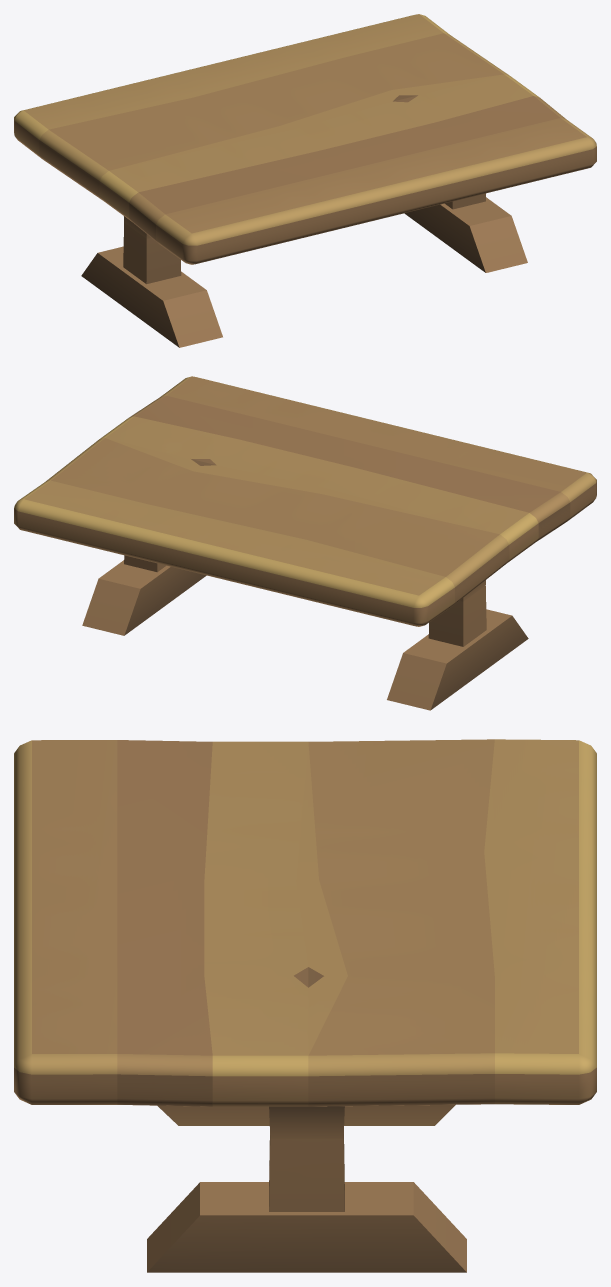
File: table1_LOD_setup.fbx
The picture shows the model from 3 angles, top to bottom: view 1: azimuth 30°, elevation 25°; view 2: azimuth 150°, elevation 25°; view 3: azimuth 270°, elevation 25°; orthographic projection. The views are drawn at different scales.
Parts seen in each view (by area): view 1: table1_LOD0; view 2: table1_LOD0; view 3: table1_LOD0.
Boxes of the visible parts, x1,y1,x2,y2 form: table1_LOD0: (14,14,596,347); table1_LOD0: (14,376,596,710); table1_LOD0: (14,739,596,1272).
Size of what is drawn, in the model's own units: 205 by 68.43 by 152.
